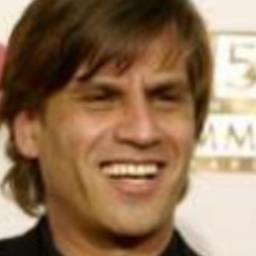Person: (5, 3, 225, 256)
